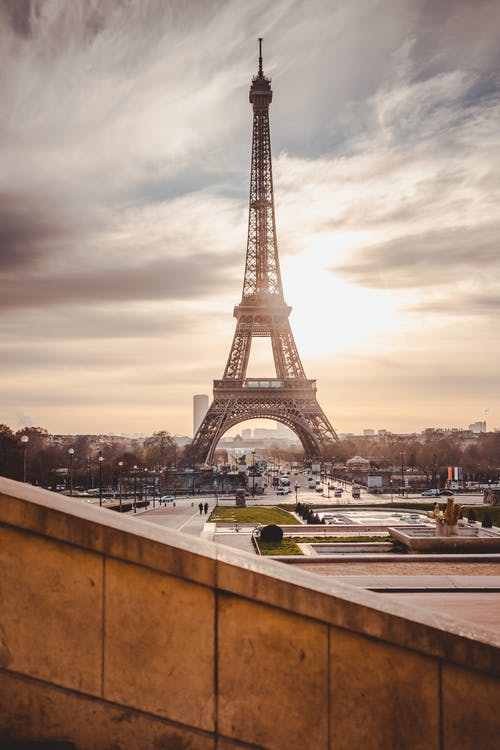eiffel tower: (156, 18, 351, 462)
